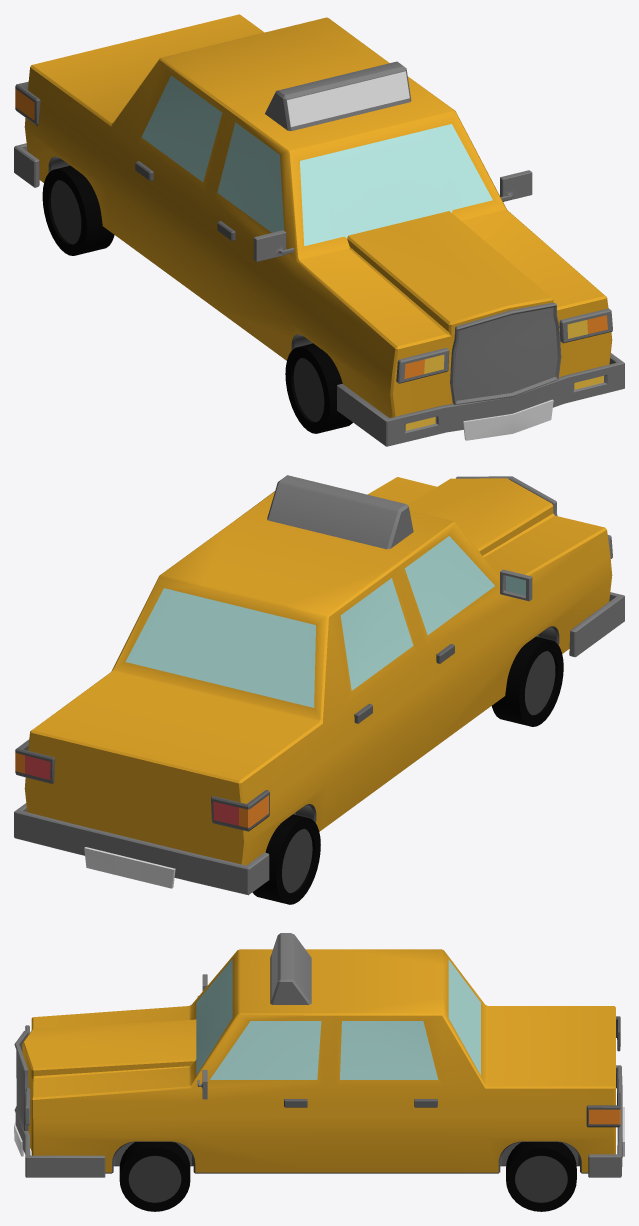
File: BartShell.fbx
The picture shows the model from 3 angles, top to bottom: view 1: azimuth 30°, elevation 25°; view 2: azimuth 150°, elevation 25°; view 3: azimuth 270°, elevation 25°; orthographic projection. The views are drawn at different scales.
Parts seen in each view (by area): view 1: BartholomewShell; view 2: BartholomewShell; view 3: BartholomewShell.
Part boxes in pixels (left/top/right/bottom): BartholomewShell: left=14, top=14, right=624, bottom=446; BartholomewShell: left=14, top=475, right=624, bottom=904; BartholomewShell: left=14, top=933, right=624, bottom=1211.
Bounding box in the file's own units: 264 × 241 × 636.
